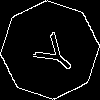Y: (25, 25, 82, 80)
